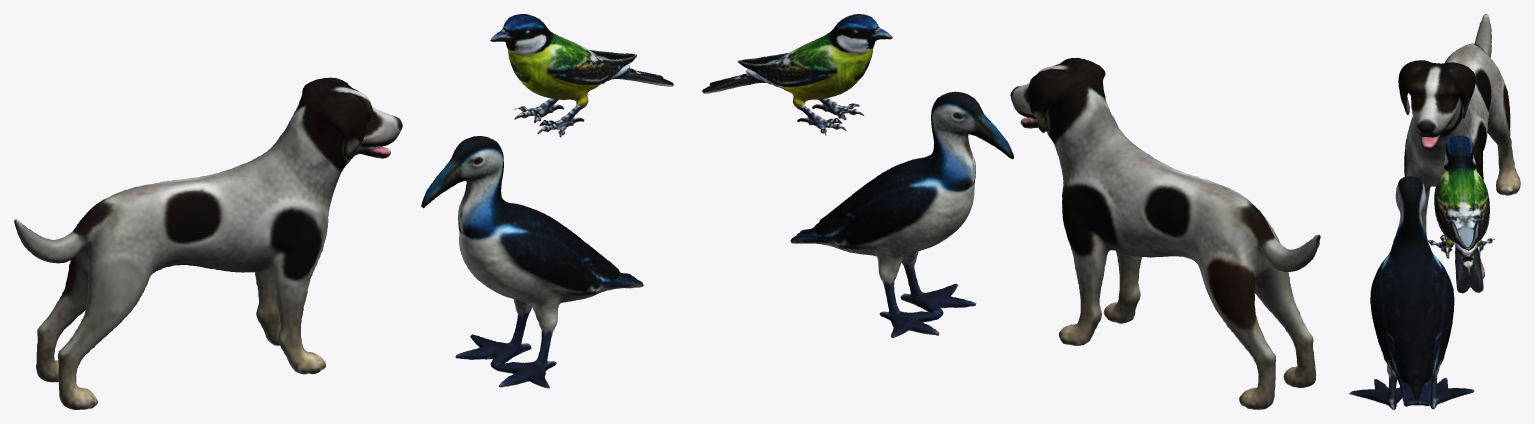
File: blue3.glb
3 views of the same model, side by side, from view 1: azimuth 30°, elevation 25°; view 2: azimuth 150°, elevation 25°; view 3: azimuth 270°, elevation 25° (orthographic). The views are drawn at different scales.
Parts seen in each view (by area): view 1: Mesh_0, Mesh_0.002, Mesh_0.003; view 2: Mesh_0, Mesh_0.002, Mesh_0.003; view 3: Mesh_0.002, Mesh_0, Mesh_0.003.
Boxes of the visible parts, bbox=[...] form: Mesh_0: bbox=[14, 77, 402, 409]; Mesh_0.002: bbox=[421, 136, 643, 388]; Mesh_0.003: bbox=[490, 14, 673, 137]; Mesh_0: bbox=[1010, 58, 1320, 409]; Mesh_0.002: bbox=[790, 91, 1013, 337]; Mesh_0.003: bbox=[702, 14, 892, 135]; Mesh_0.002: bbox=[1349, 176, 1474, 409]; Mesh_0: bbox=[1398, 14, 1520, 278]; Mesh_0.003: bbox=[1426, 135, 1494, 293].
Size of the model in its own units: 24.85 by 11.89 by 6.67.
Materials: 3 (3 with a texture image).
